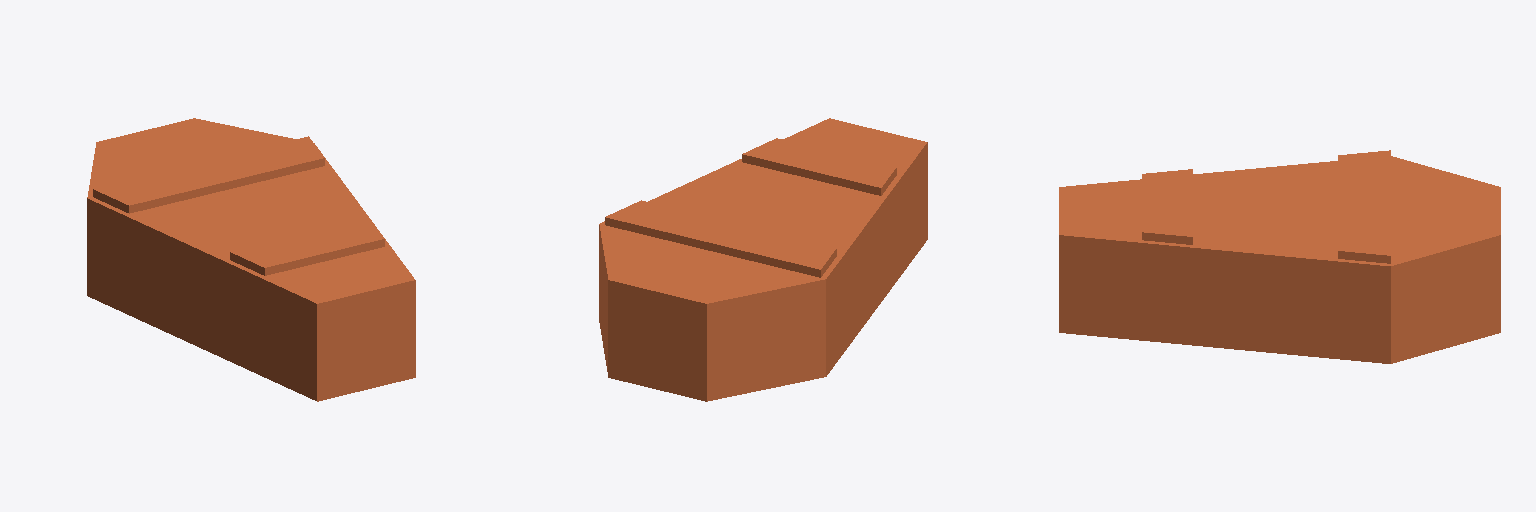
File: coffin.obj
3 renders of one model, left to right at view 1: azimuth 30°, elevation 25°; view 2: azimuth 150°, elevation 25°; view 3: azimuth 270°, elevation 25°, orthographic.
Visible parts, largest first — view 1: lid, coffin; view 2: lid, coffin; view 3: lid, coffin.
Part boxes in pixels (x1,y1,x2,y2): lid: (87,118,415,319); coffin: (87,214,415,401); lid: (599,118,927,319); coffin: (599,158,927,401); lid: (1059,150,1500,281); coffin: (1059,251,1500,363).
Size of the model in its own units: 0.5928 by 0.2642 by 1.